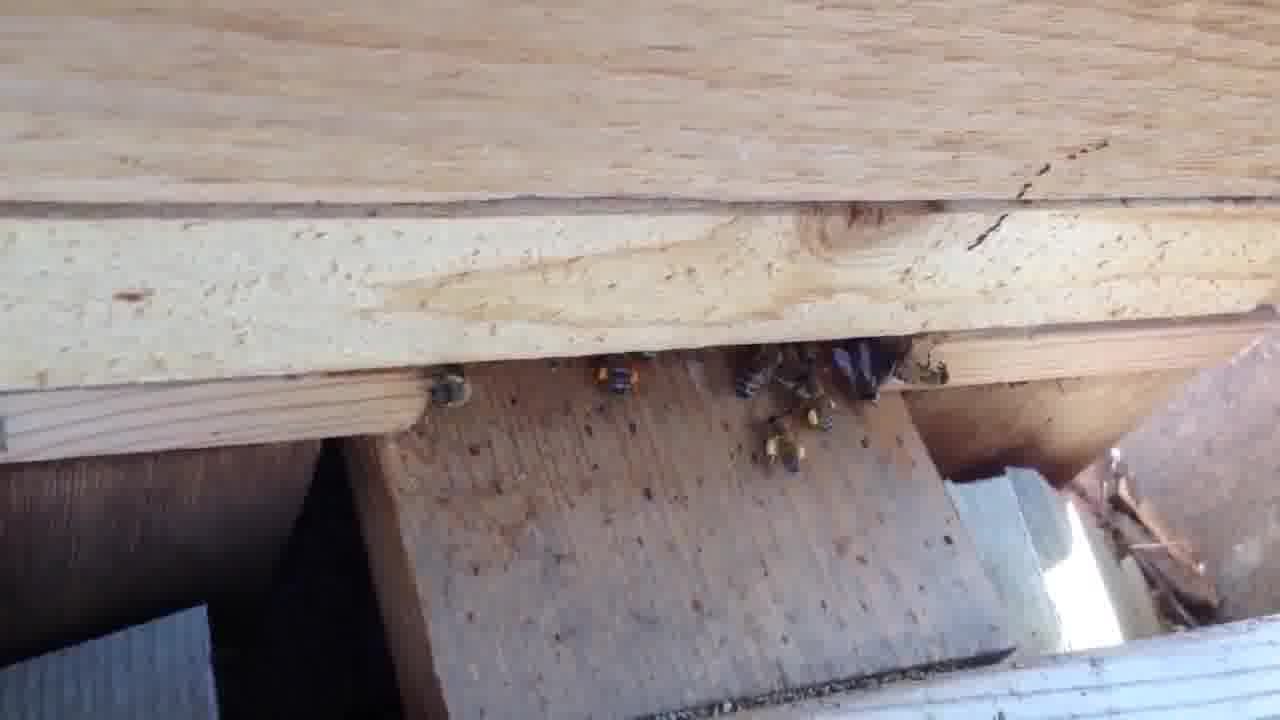pollen: (780, 376, 845, 430), (760, 409, 807, 476)
